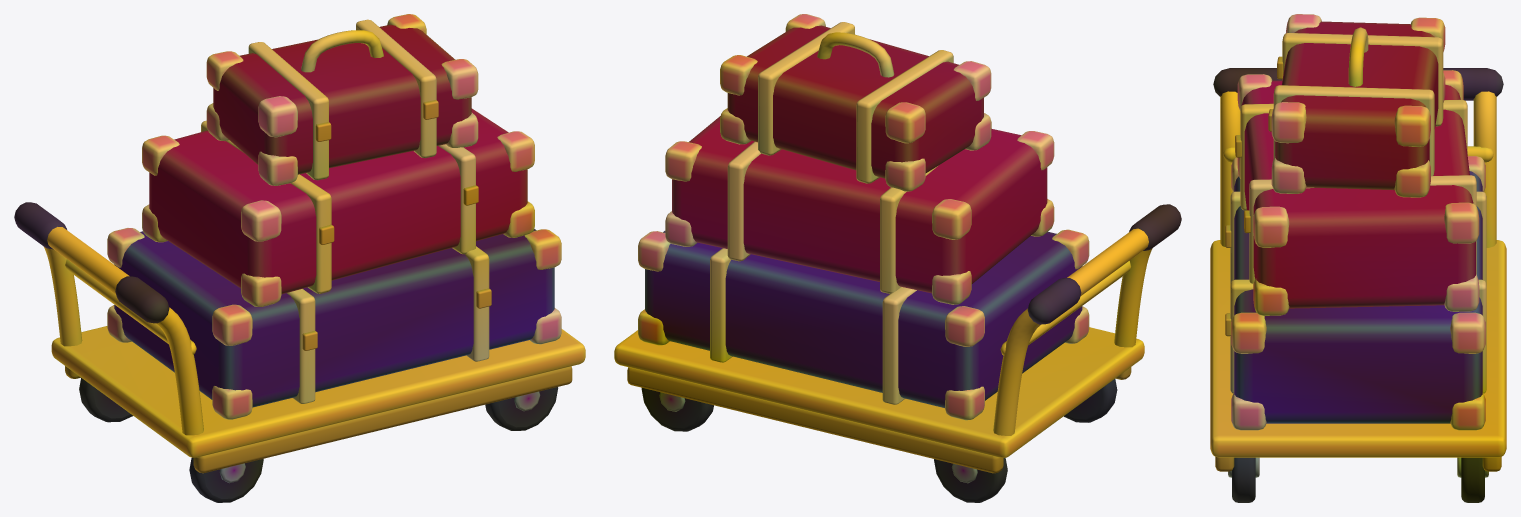
File: BaggageTrolley.glb
The picture shows the model from 3 angles, left to right: view 1: azimuth 30°, elevation 25°; view 2: azimuth 150°, elevation 25°; view 3: azimuth 270°, elevation 25°; orthographic projection. The views are drawn at different scales.
Visible parts, largest first — view 1: Trolley; view 2: Trolley; view 3: Trolley.
Boxes of the visible parts, x1,y1,x2,y2 form: Trolley: (14, 14, 585, 502); Trolley: (614, 14, 1181, 502); Trolley: (1210, 14, 1506, 502).
Bounding box in the file's own units: 1.1 × 0.927 × 0.62.
